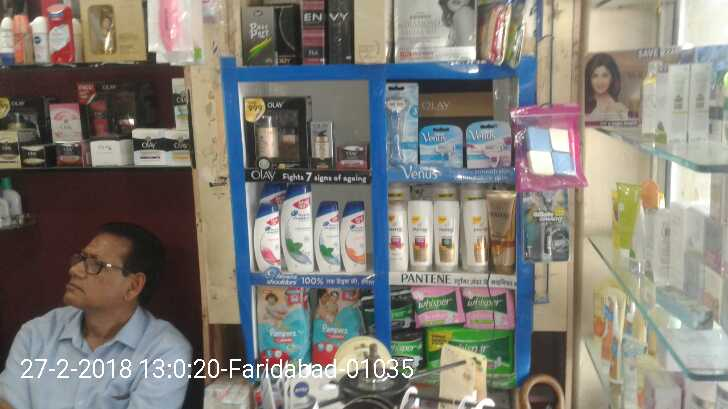venus: (386, 82, 418, 162), (468, 121, 512, 168), (421, 125, 465, 169)
